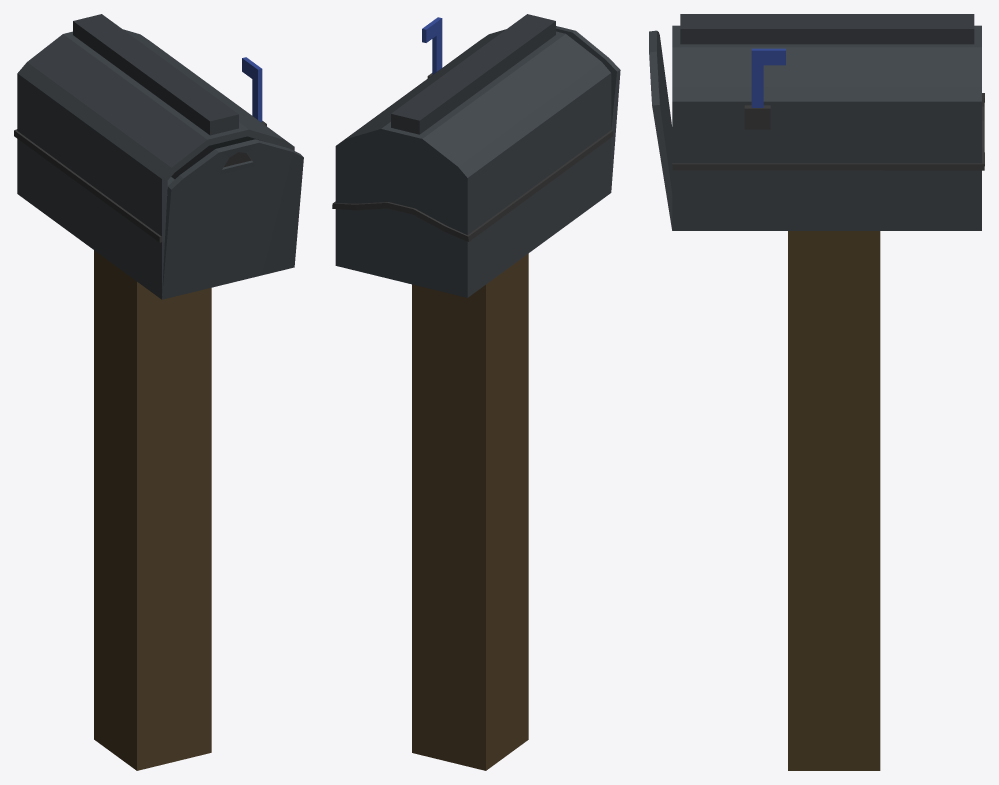
Rendered from PostBox_2.fbx.
3 views of the same model, side by side, from view 1: azimuth 30°, elevation 25°; view 2: azimuth 150°, elevation 25°; view 3: azimuth 270°, elevation 25° (orthographic). The views are drawn at different scales.
Visible parts, largest first — view 1: PostBox_2; view 2: PostBox_2; view 3: PostBox_2.
Part boxes in pixels (left/top/right/bottom): PostBox_2: left=14, top=14, right=303, bottom=770; PostBox_2: left=332, top=14, right=620, bottom=770; PostBox_2: left=649, top=14, right=984, bottom=770.
Bounding box in the file's own units: 29.18 × 136 × 56.06.
